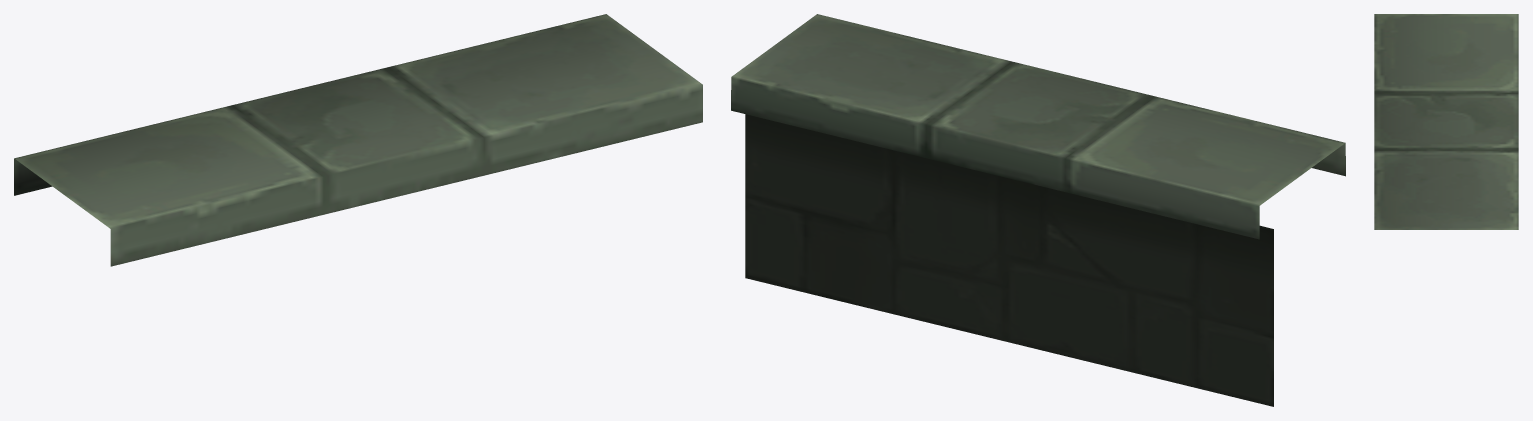
File: yw_newshanlin_shoulder_001.FBX
3 views of the same model, side by side, from view 1: azimuth 30°, elevation 25°; view 2: azimuth 150°, elevation 25°; view 3: azimuth 270°, elevation 25° (orthographic). The views are drawn at different scales.
Parts seen in each view (by area): view 1: yw_newshanlin_shoulder_001; view 2: yw_newshanlin_shoulder_001; view 3: yw_newshanlin_shoulder_001.
Part boxes in pixels (box(x1,y1,x2,y2)): yw_newshanlin_shoulder_001: box(14, 14, 702, 266); yw_newshanlin_shoulder_001: box(731, 14, 1345, 406); yw_newshanlin_shoulder_001: box(1374, 14, 1518, 229).
Bounding box in the file's own units: 208 × 58.84 × 79.61.
